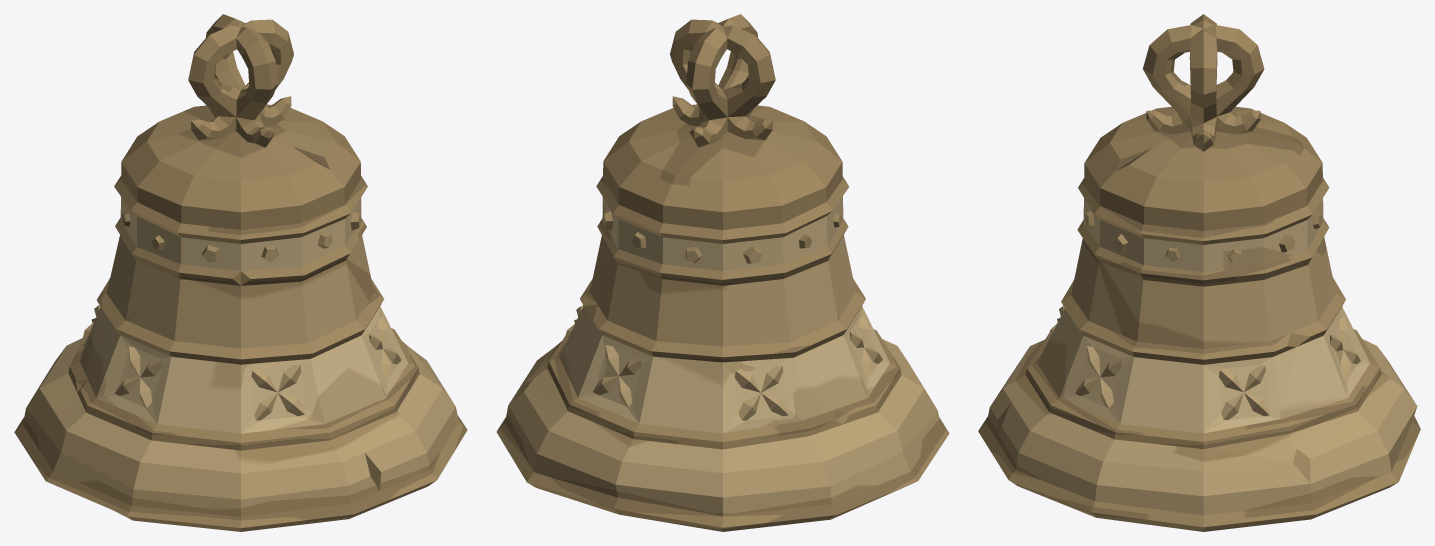
File: crypt_bell.gltf
The picture shows the model from 3 angles, left to right: view 1: azimuth 30°, elevation 25°; view 2: azimuth 150°, elevation 25°; view 3: azimuth 270°, elevation 25°; orthographic projection.
Visible parts, largest first — view 1: crypt_bell; view 2: crypt_bell; view 3: crypt_bell.
Boxes of the visible parts, box(x1,y1,x2,y2) form: crypt_bell: box(14, 14, 467, 531); crypt_bell: box(496, 14, 949, 531); crypt_bell: box(978, 14, 1420, 531).
Bounding box in the file's own units: 1.36 × 1.45 × 1.34.
1 material, 1 textured.
